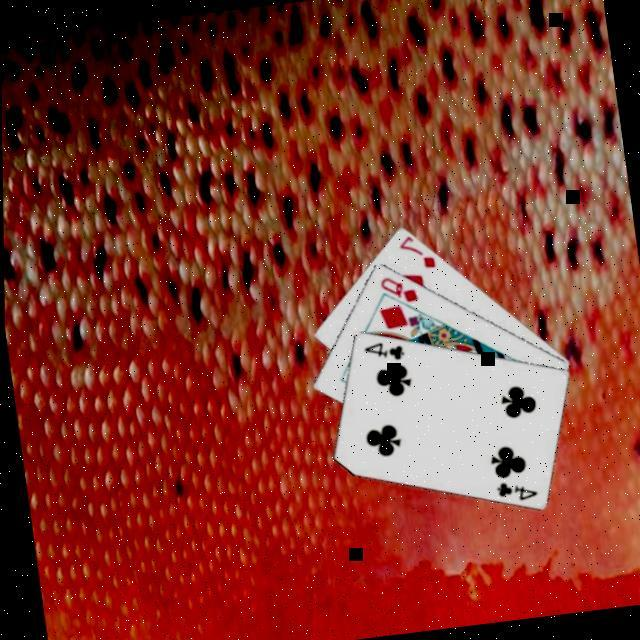4C: (490, 471, 540, 504), (358, 334, 408, 364)
7D: (393, 228, 439, 272)
QD: (376, 266, 422, 306)
